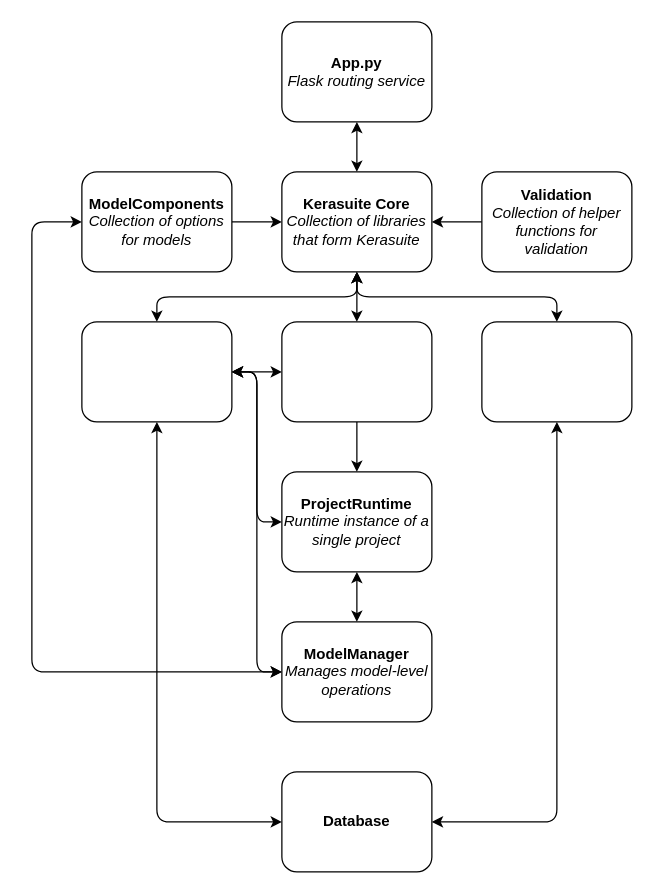
Some shapes in this 654 by 894 pixel diagram are drawn without their labels. The shapes that lost their labels are listed below. From the top down, each one's box as (x1, y1, x2, y2) in pixels, then its label:
(81, 321, 232, 422): ProjectManager Reads information & writes changes for projects
(281, 321, 432, 422): RuntimeManager Manages active projects
(481, 321, 632, 422): UserManager Reads information & writes changes for users
